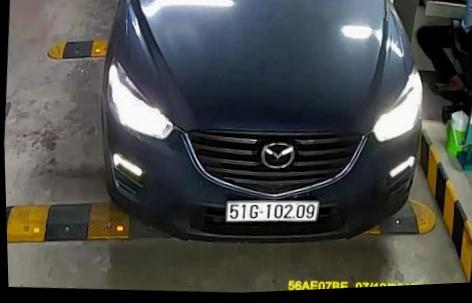License_Plate: (214, 190, 327, 232)
